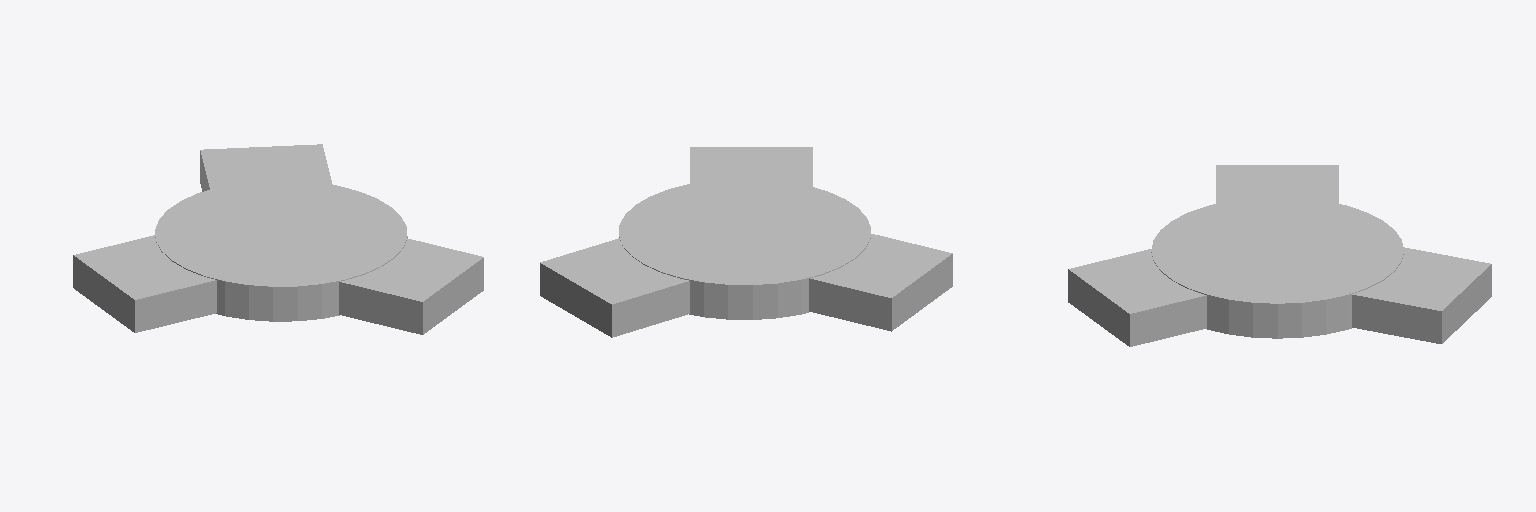
Rendered from level.obj.
3 views of the same model, side by side, from view 1: azimuth 30°, elevation 25°; view 2: azimuth 150°, elevation 25°; view 3: azimuth 270°, elevation 25° (orthographic).
Parts seen in each view (by area): view 1: Cylinder, Cube.002_Cube.004, Cube.001_Cube.007, Cube.000_Cube.006; view 2: Cylinder, Cube.000_Cube.006, Cube.002_Cube.004, Cube.001_Cube.007; view 3: Cylinder, Cube.000_Cube.006, Cube.001_Cube.007, Cube.002_Cube.004.
Part boxes in pixels (left/top/right/bottom): Cylinder: left=155, top=180, right=407, bottom=321; Cube.002_Cube.004: left=73, top=235, right=216, bottom=332; Cube.001_Cube.007: left=339, top=238, right=483, bottom=334; Cube.000_Cube.006: left=200, top=144, right=332, bottom=191; Cylinder: left=619, top=178, right=870, bottom=319; Cube.000_Cube.006: left=540, top=238, right=689, bottom=337; Cube.002_Cube.004: left=809, top=234, right=952, bottom=331; Cube.001_Cube.007: left=690, top=147, right=812, bottom=186; Cylinder: left=1151, top=197, right=1403, bottom=338; Cube.000_Cube.006: left=1352, top=247, right=1491, bottom=343; Cube.001_Cube.007: left=1068, top=249, right=1206, bottom=346; Cube.002_Cube.004: left=1216, top=165, right=1338, bottom=203.
Size of the model in its own units: 2.79 by 0.3035 by 3.34.